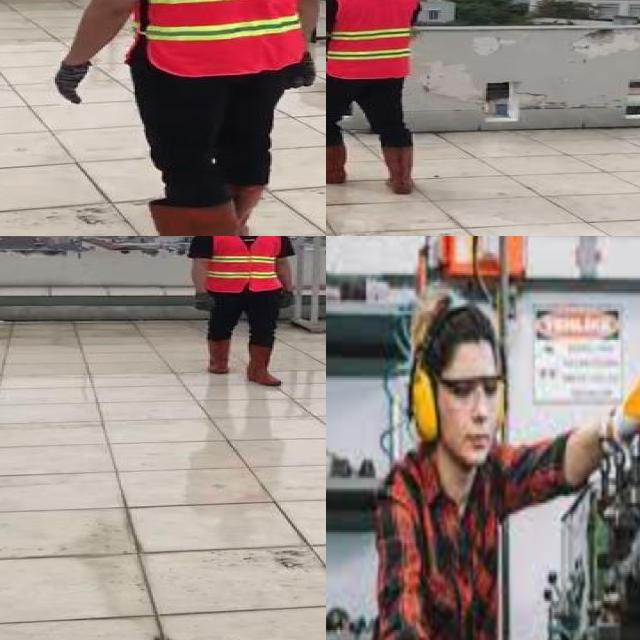Ear-protection: (405, 308, 509, 478)
boots: (103, 201, 234, 236), (376, 143, 414, 195), (247, 343, 281, 386), (205, 338, 231, 374), (326, 142, 347, 184)
hand_glove: (53, 62, 91, 104), (282, 57, 314, 91), (192, 294, 215, 311), (276, 290, 297, 307)
person: (43, 0, 322, 236), (326, 0, 431, 199), (185, 236, 299, 395)
vest: (115, 0, 314, 72), (326, 0, 414, 80), (208, 236, 281, 291)
